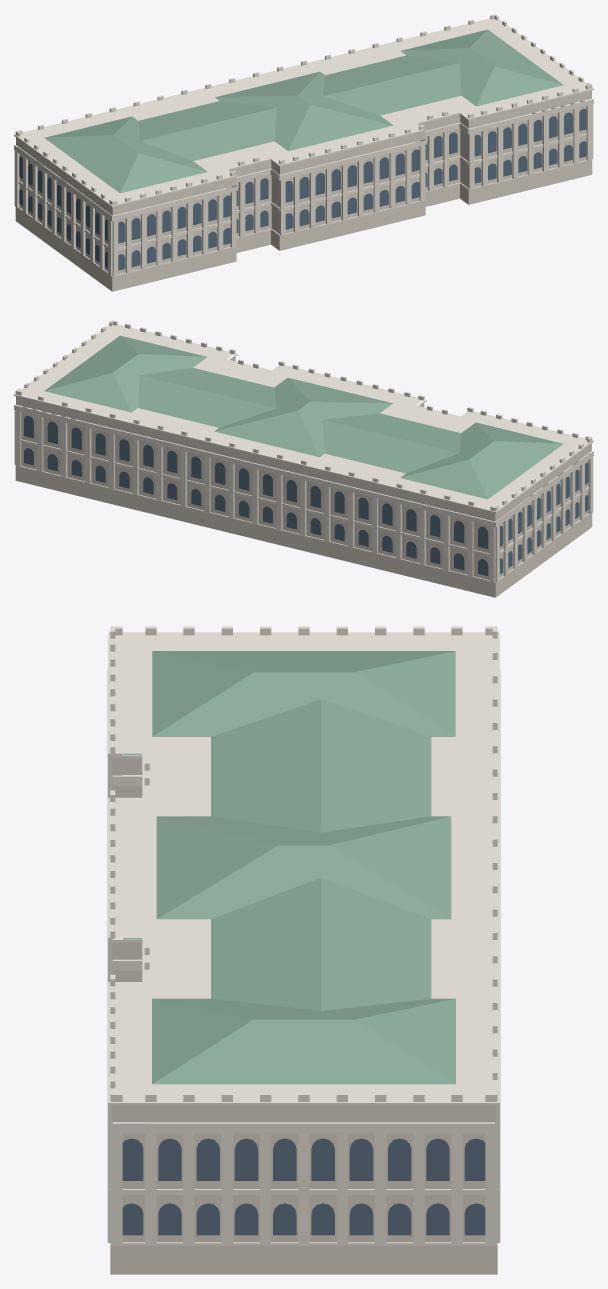
Rendered from istanbul-ciragan-palace.glb.
3 views of the same model, one above another, from view 1: azimuth 30°, elevation 25°; view 2: azimuth 150°, elevation 25°; view 3: azimuth 270°, elevation 25° (orthographic). The views are drawn at different scales.
Parts seen in each view (by area): view 1: Çırağan Palace; view 2: Çırağan Palace; view 3: Çırağan Palace.
Boxes of the visible parts, <box> form: Çırağan Palace: <box>14,14,593,291</box>; Çırağan Palace: <box>14,320,593,597</box>; Çırağan Palace: <box>107,626,500,1274</box>.
Size of the model in its own units: 123 by 23.8 by 43.4.
